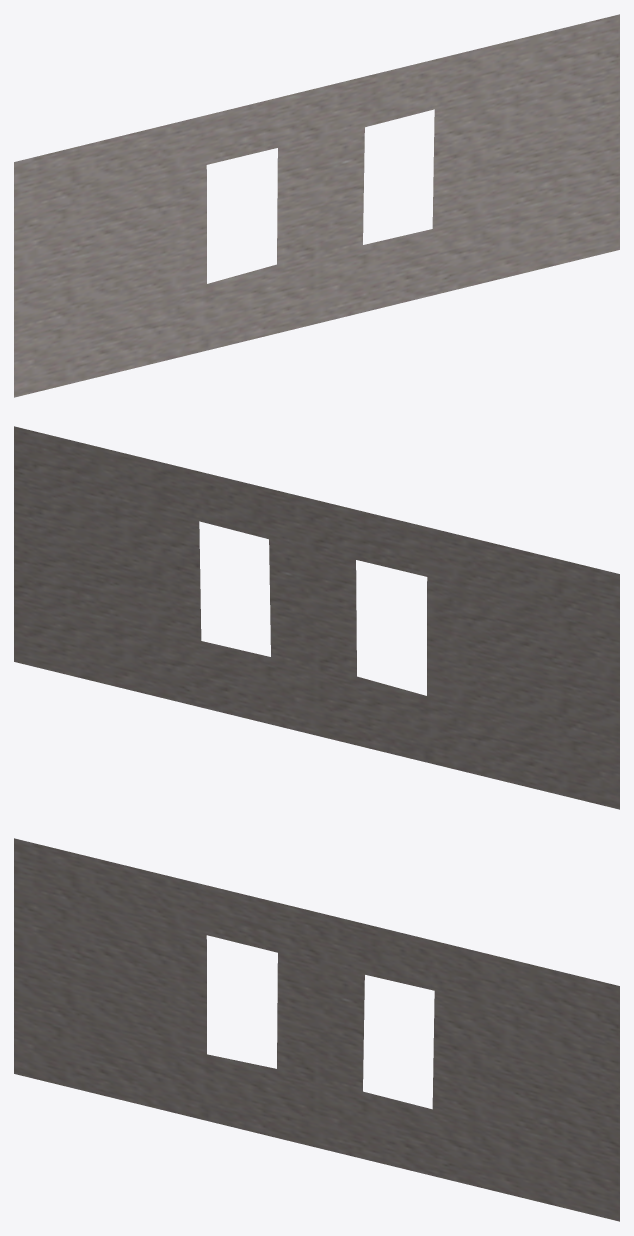
Rendered from W_AI1_xffx_1402.glb.
3 renders of one model, top to bottom at view 1: azimuth 30°, elevation 25°; view 2: azimuth 150°, elevation 25°; view 3: azimuth 330°, elevation 25°, orthographic.
Visible parts, largest first — view 1: polySurfaceShape808; view 2: polySurfaceShape808; view 3: polySurfaceShape808.
Boxes of the visible parts, x1=… form: polySurfaceShape808: x1=14, y1=14, x2=619, y2=397; polySurfaceShape808: x1=14, y1=426, x2=619, y2=809; polySurfaceShape808: x1=14, y1=838, x2=619, y2=1221.
Bounding box in the file's own units: 0.9385 × 0.3486 × 1.52e-08.
1 material, 1 textured.
